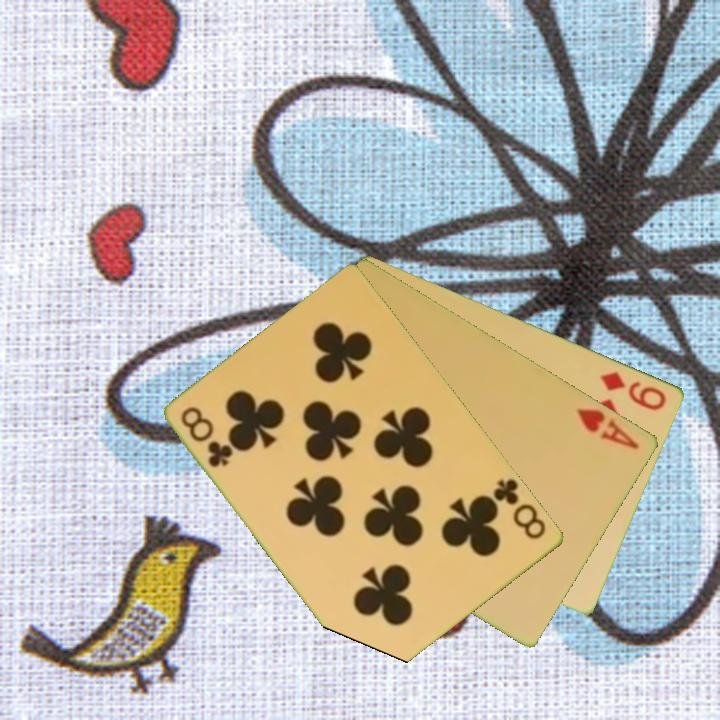8c: (486, 475, 550, 543), (177, 403, 237, 471)
9d: (597, 367, 670, 414)
Ah: (574, 404, 643, 452)
